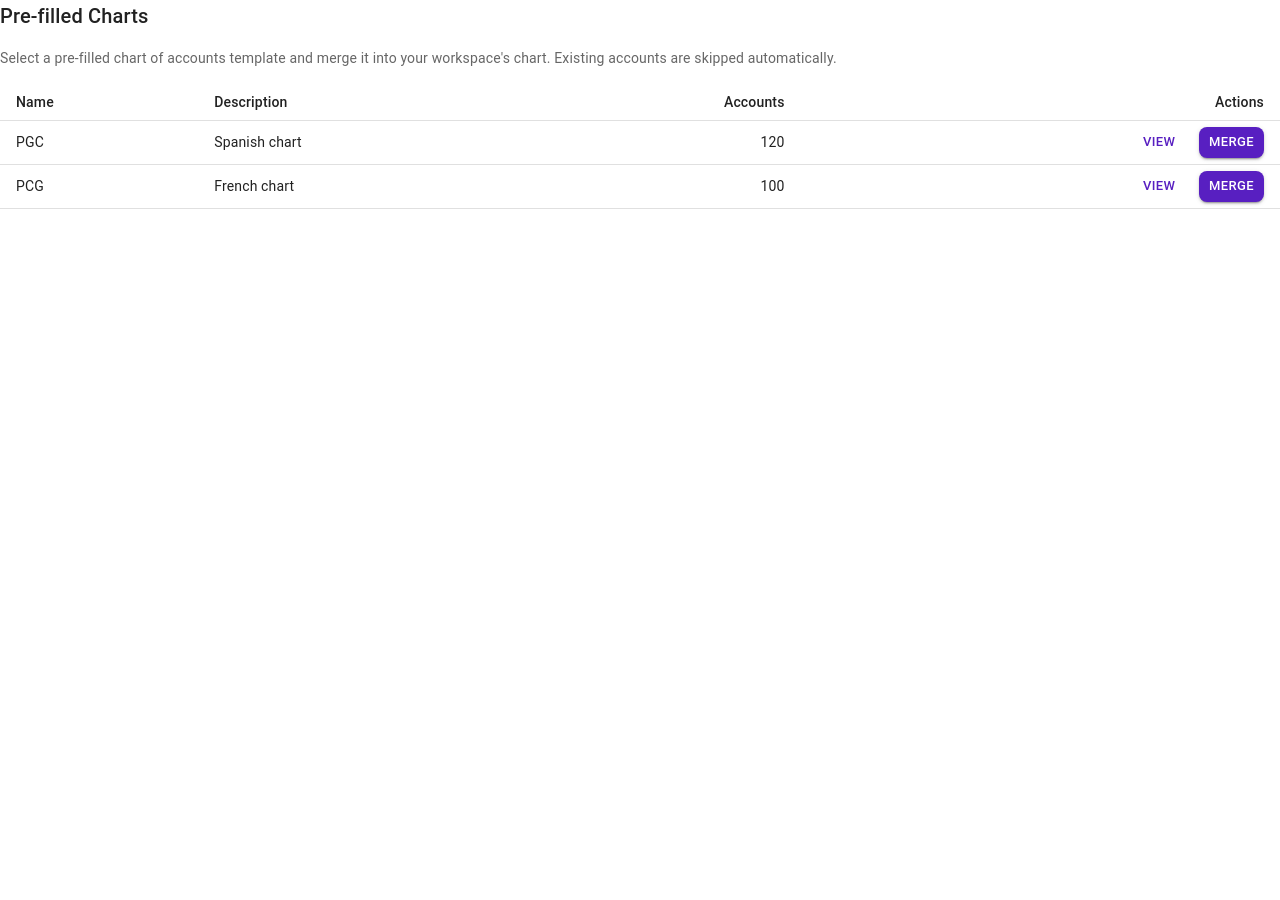
it: PrefilledChartsTab › opens view dialog with accounts
Click the button with test id "view-es-pgc".
click(1159, 142)  # box [1127,127,1191,158]
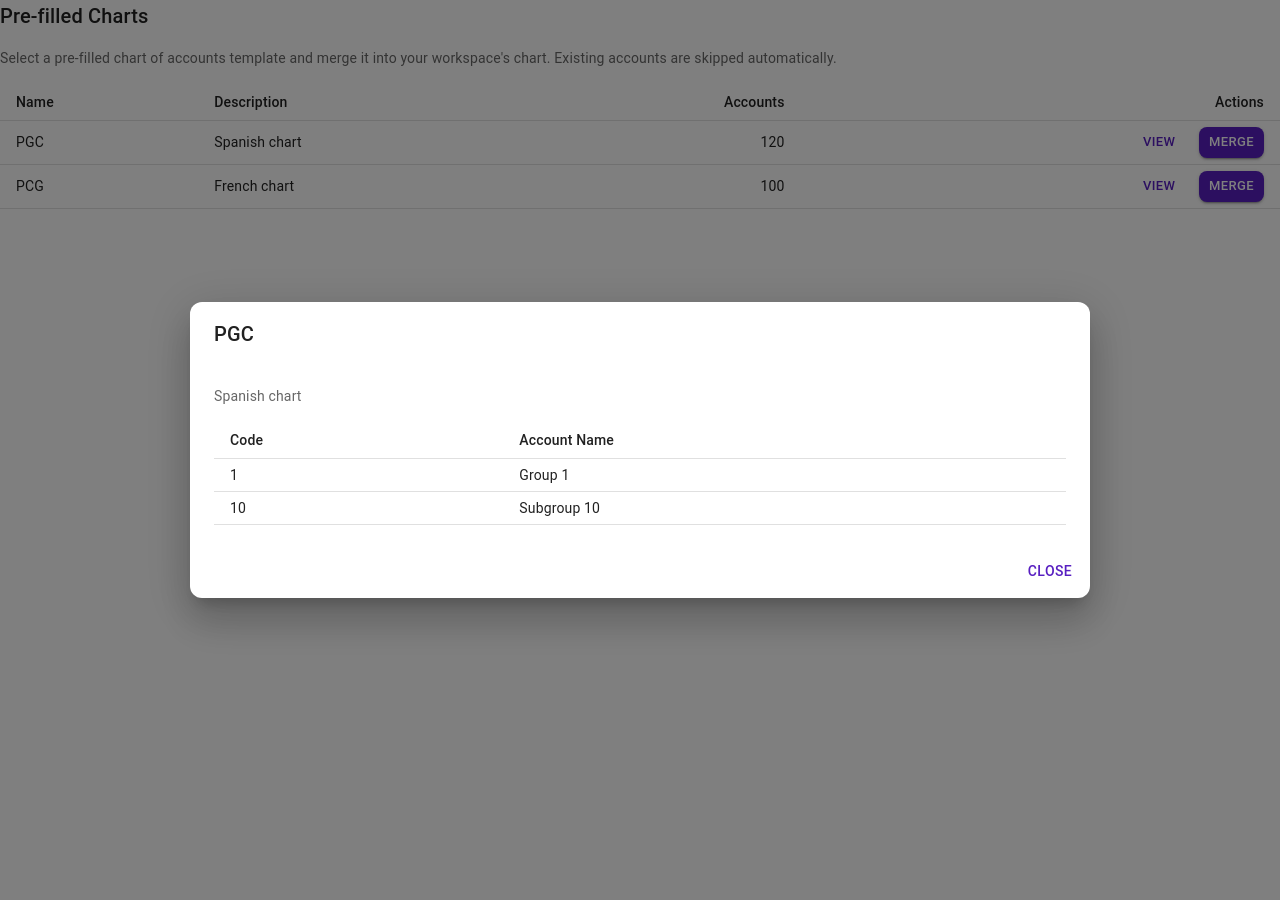
Now the text "Group 1" is shown, box [503,459,1066,492]
Now the text "Subgroup 10" is shown, box [503,492,1066,525]
